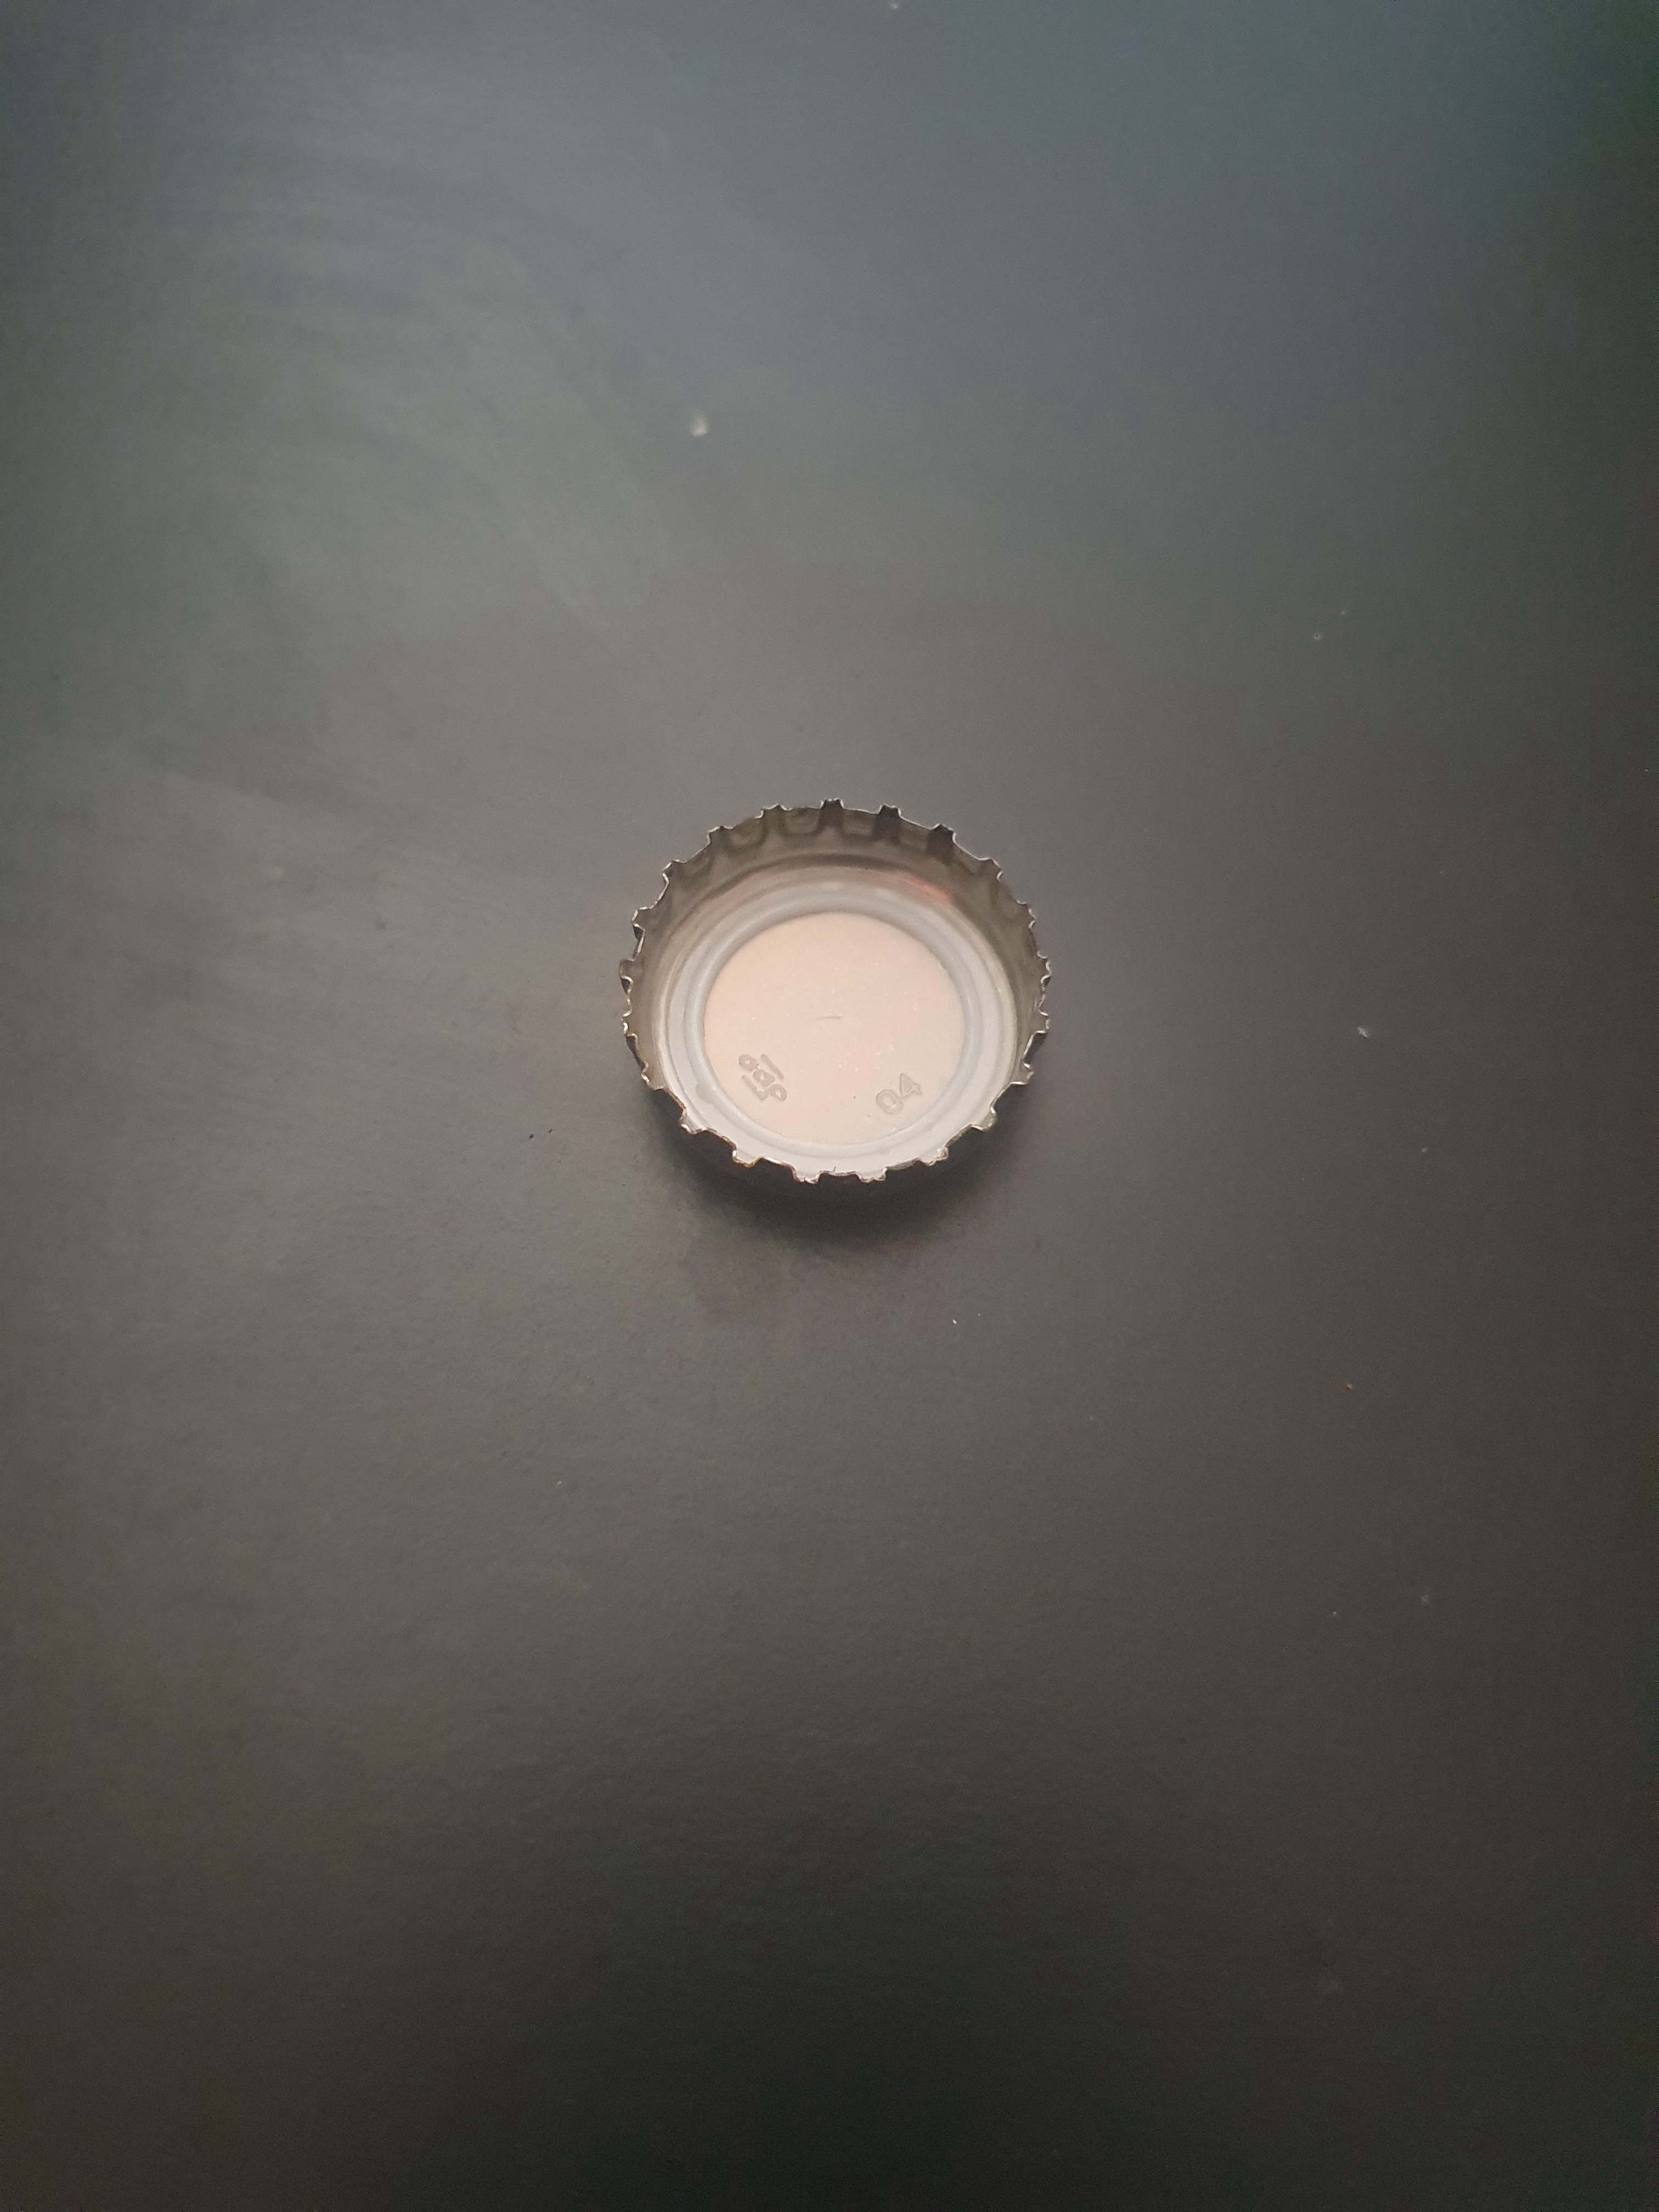metal: (596, 759, 1070, 1254)
